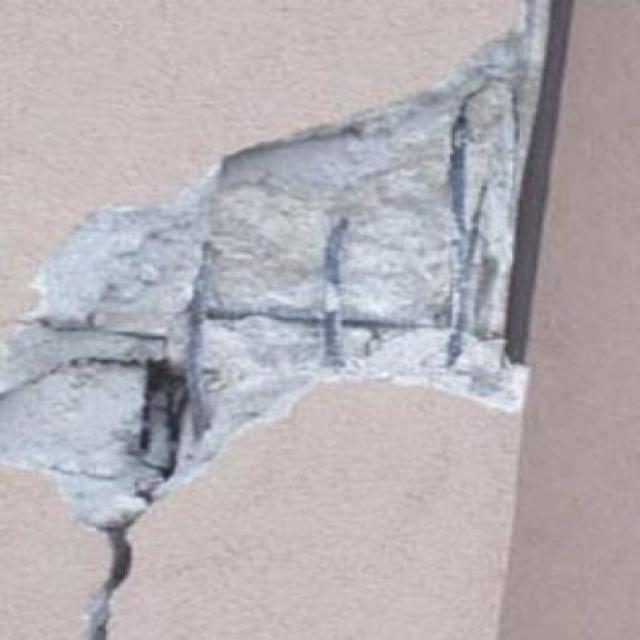D0w0: (2, 46, 533, 529)
